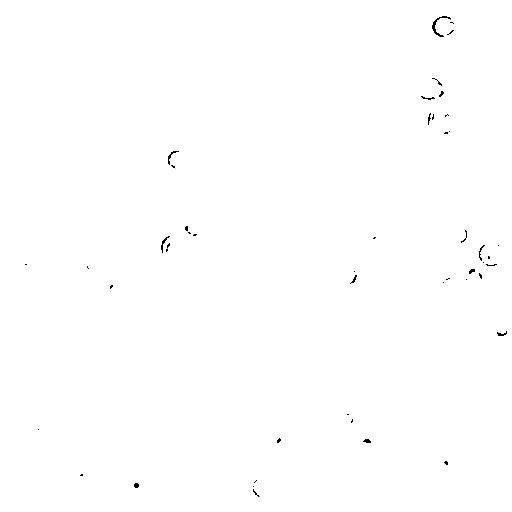micro-algae: (111, 444, 174, 506), (162, 393, 219, 447), (78, 247, 131, 305), (3, 30, 55, 85), (426, 61, 469, 103), (108, 0, 164, 29), (427, 443, 464, 479), (253, 463, 289, 497), (9, 247, 42, 279), (119, 467, 151, 499), (327, 332, 362, 360), (425, 105, 455, 137), (389, 283, 416, 315), (143, 243, 172, 270), (159, 234, 188, 261), (479, 237, 505, 267), (219, 41, 247, 67), (415, 75, 444, 100), (163, 147, 195, 169), (124, 431, 151, 457), (180, 29, 203, 53), (133, 77, 156, 101), (51, 386, 73, 411), (335, 263, 360, 285), (430, 15, 456, 36), (462, 268, 483, 293), (67, 461, 90, 483), (1, 177, 21, 202), (37, 421, 59, 443), (447, 221, 468, 244), (263, 426, 287, 446), (439, 275, 464, 293), (251, 476, 272, 497), (151, 286, 171, 305), (182, 219, 202, 237), (176, 439, 194, 459), (383, 244, 401, 263), (369, 234, 387, 252), (398, 0, 417, 16), (129, 0, 149, 15), (493, 319, 509, 337), (148, 89, 165, 105), (496, 404, 511, 422), (45, 125, 61, 141), (85, 257, 100, 274), (340, 410, 355, 427), (108, 280, 124, 295), (359, 436, 373, 453), (57, 505, 75, 511)
